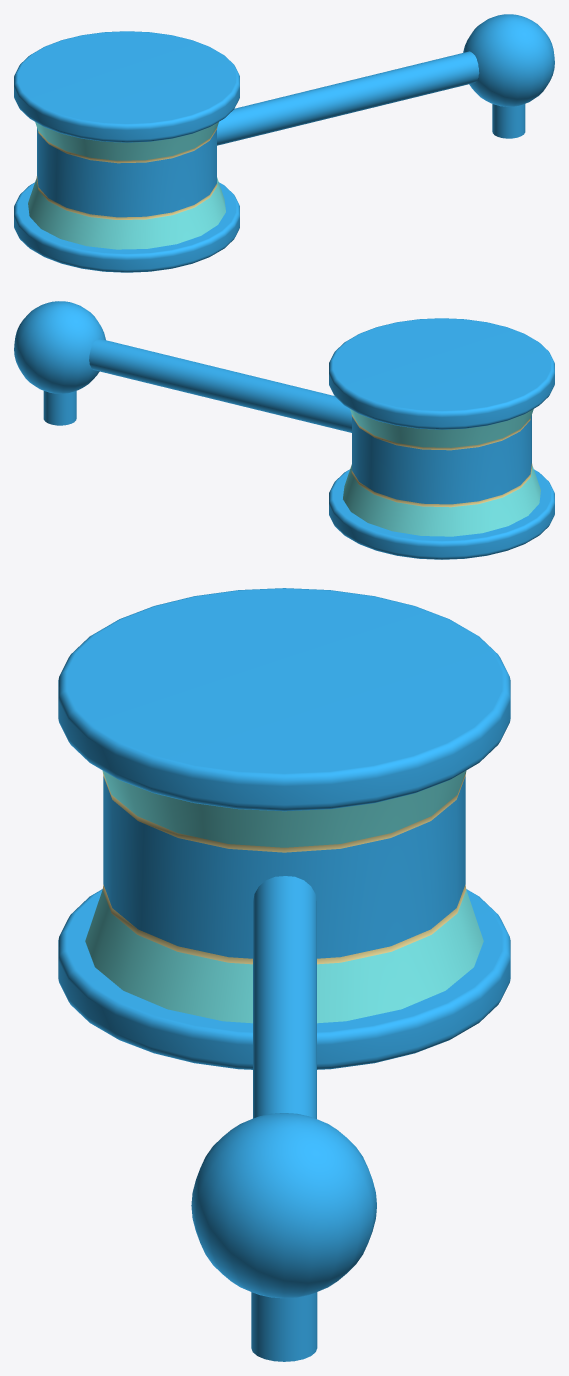
File: hammer.fbx
3 renders of one model, top to bottom at view 1: azimuth 30°, elevation 25°; view 2: azimuth 150°, elevation 25°; view 3: azimuth 270°, elevation 25°, orthographic. The views are drawn at different scales.
Parts seen in each view (by area): view 1: pCylinder52, pSphere2, pCylinder51; view 2: pCylinder52, pSphere2, pCylinder51; view 3: pCylinder52, pSphere2, pCylinder51.
Part boxes in pixels (x1,y1,x2,y2): pCylinder52: (14,31,479,272); pSphere2: (463,14,554,106); pCylinder51: (492,104,525,138); pCylinder52: (89,318,554,559); pSphere2: (14,301,105,393); pCylinder51: (43,391,76,425); pCylinder52: (58,588,510,1118); pSphere2: (191,1113,376,1298); pCylinder51: (251,1292,317,1361).
Bounding box in the file's own units: 10.18 × 2.78 × 3.83.
